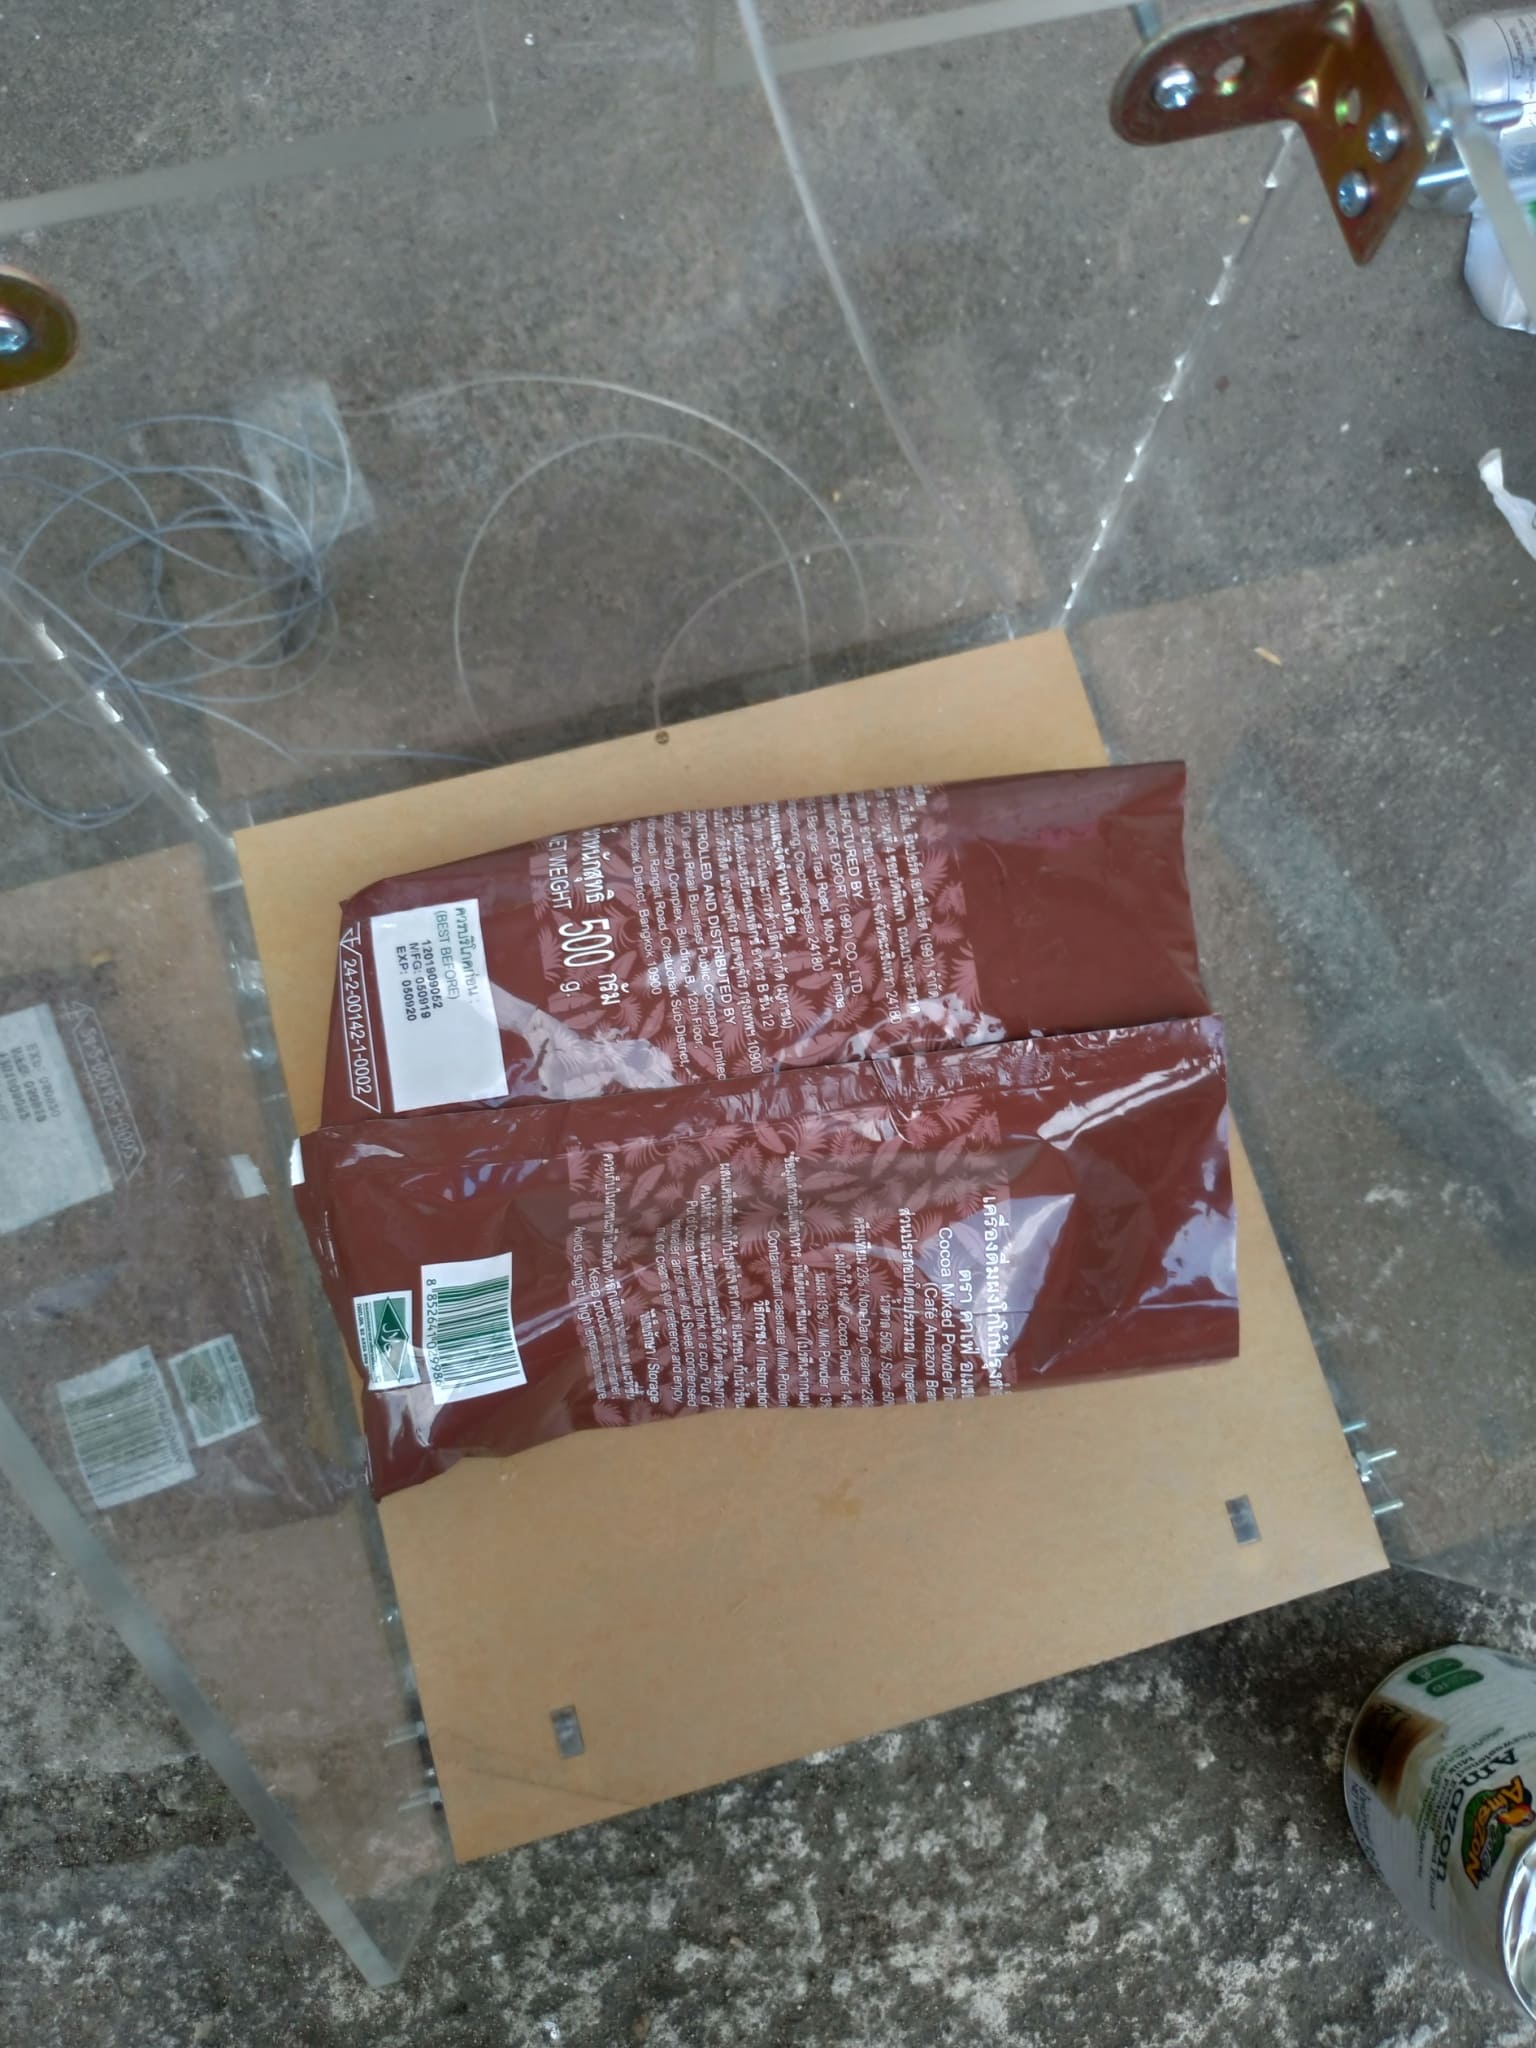AlCan: (1333, 1608, 1536, 1980)
Others: (307, 764, 1260, 1501)
